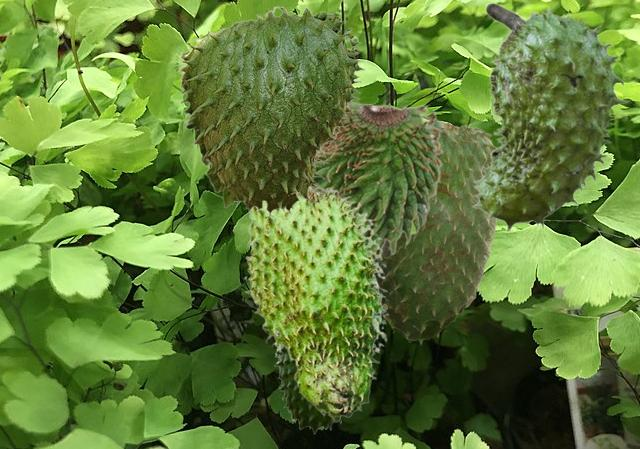guyabano: (179, 5, 365, 218), (470, 2, 629, 233), (243, 186, 389, 422), (375, 119, 497, 343), (314, 101, 443, 260), (274, 275, 381, 433)
